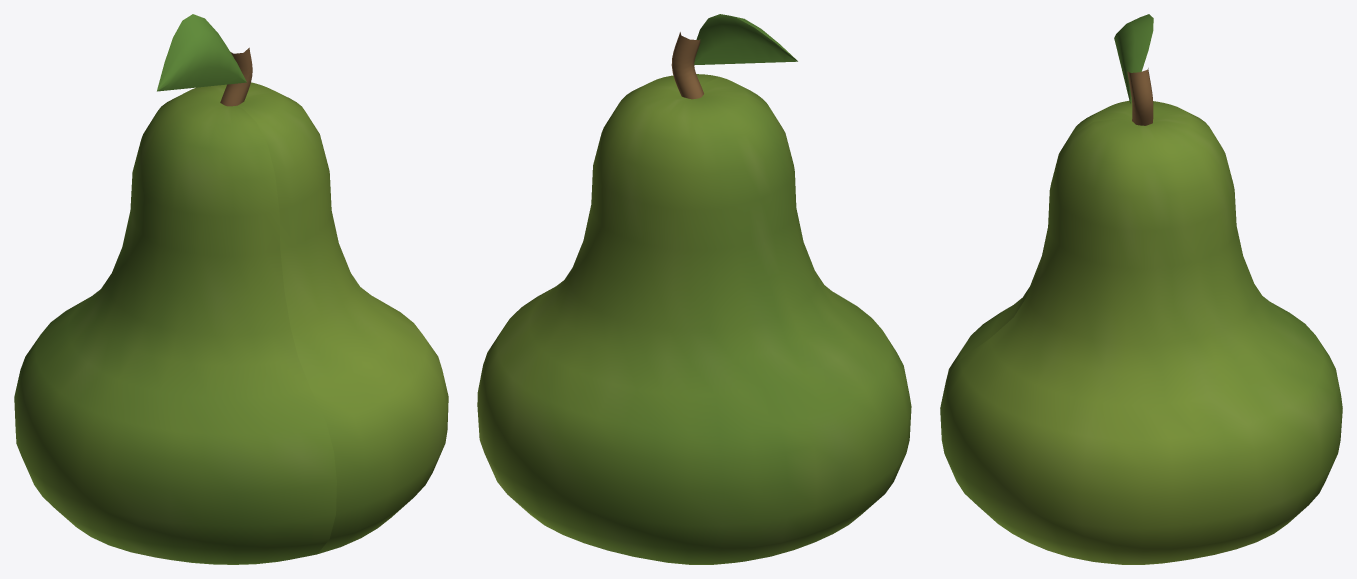
The model's file is pear.glb.
The picture shows the model from 3 angles, left to right: view 1: azimuth 30°, elevation 25°; view 2: azimuth 150°, elevation 25°; view 3: azimuth 270°, elevation 25°; orthographic projection. The views are drawn at different scales.
Parts seen in each view (by area): view 1: pear; view 2: pear; view 3: pear.
Part boxes in pixels (<box>): pear: <box>14,14,448,564</box>; pear: <box>477,14,911,564</box>; pear: <box>940,14,1342,564</box>.
Bounding box in the file's own units: 0.7564 × 0.9721 × 0.7337.
